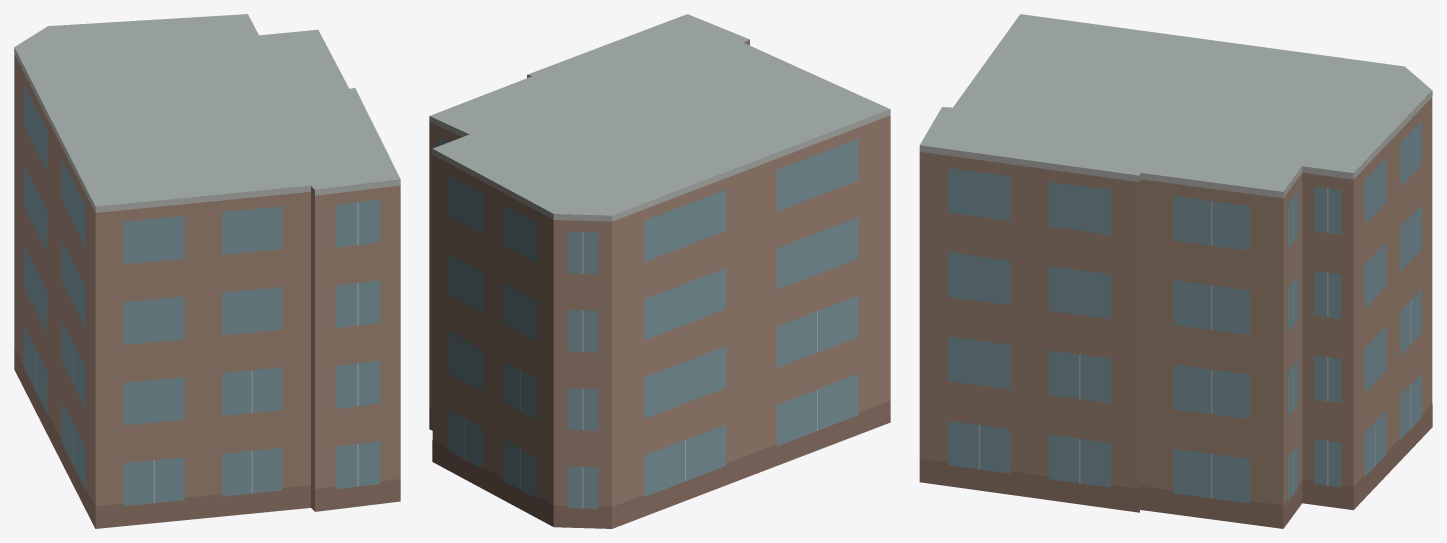
File: survey-upis-32528272.glb
3 views of the same model, side by side, from view 1: azimuth 30°, elevation 25°; view 2: azimuth 150°, elevation 25°; view 3: azimuth 270°, elevation 25° (orthographic). The views are drawn at different scales.
Parts seen in each view (by area): view 1: survey-upis-32528272.tmp; view 2: survey-upis-32528272.tmp; view 3: survey-upis-32528272.tmp.
Boxes of the visible parts, x1=… form: survey-upis-32528272.tmp: x1=14, y1=14, x2=400, y2=528; survey-upis-32528272.tmp: x1=429, y1=14, x2=890, y2=528; survey-upis-32528272.tmp: x1=919, y1=14, x2=1432, y2=528.
Size of the model in its own units: 14.39 by 12.7 by 17.52.
